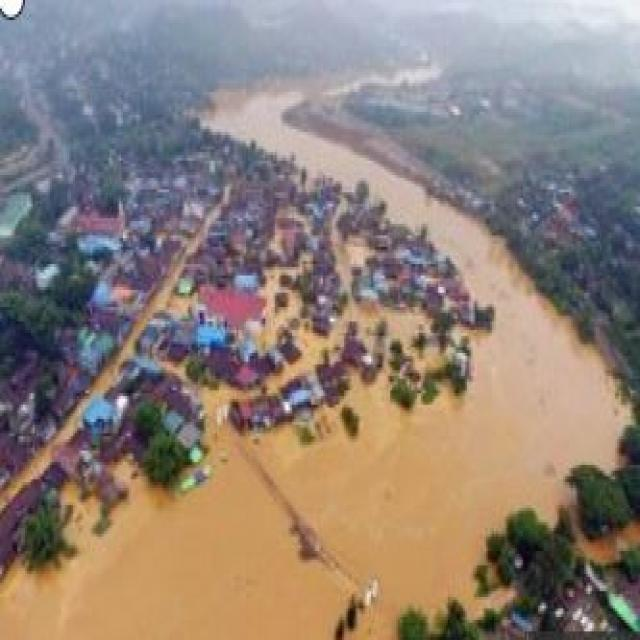flooded_areas: (50, 129, 498, 514)
